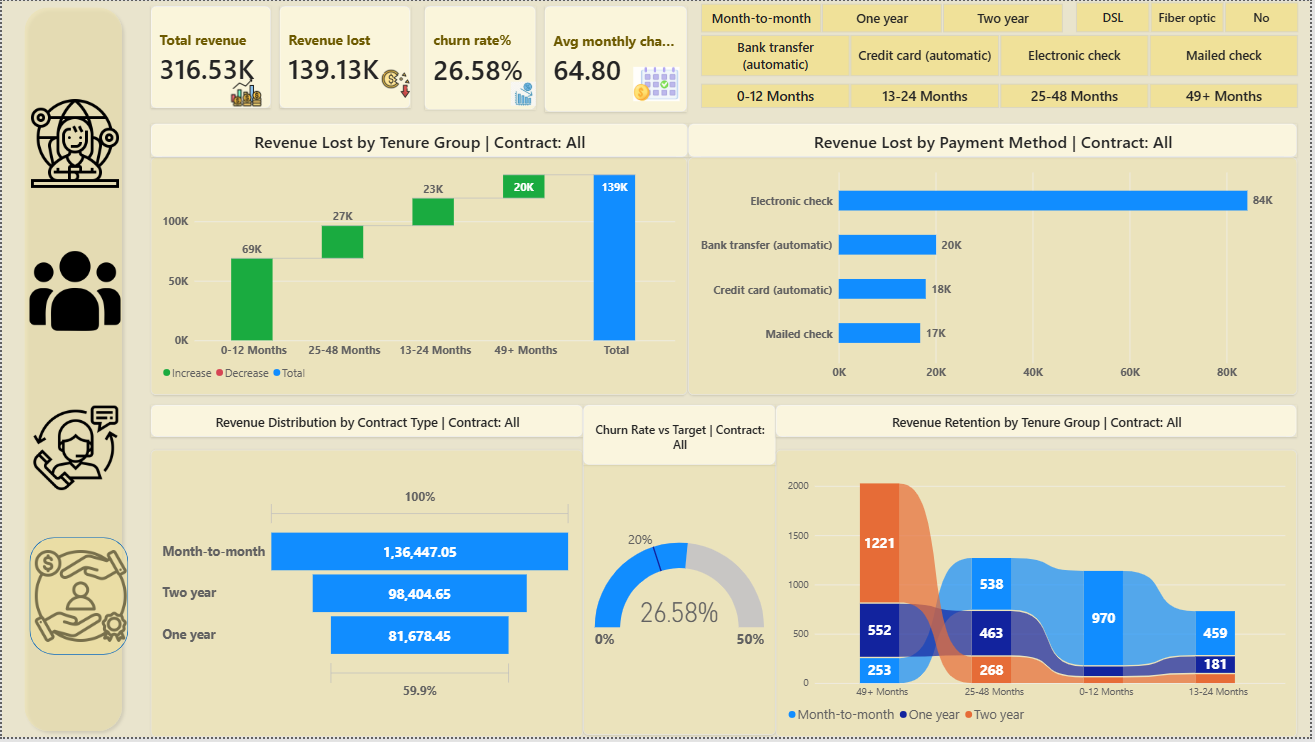

What the dashboard file says about the page in this screenshot:
{"tool":"powerbi","page":{"name":"Revenue and Retention Analysis","canvas":[1920,1080],"ordinal":4},"visuals":[{"type":"cardVisual","fields":{"Data":["telco_customer_churn_data.Total revenue"]},"box":[218.3,7.3,176.1,150.4],"z":0},{"type":"cardVisual","fields":{"Data":["telco_customer_churn_data.Avg monthly charges"]},"box":[796.1,7.3,209.1,155.9],"z":1000},{"type":"cardVisual","fields":{"Data":["telco_customer_churn_data.churn rate%"]},"box":[620,7.3,163.2,152.2],"z":2000},{"type":"cardVisual","fields":{"Data":["telco_customer_churn_data.Revenue lost"]},"box":[407.2,7.3,192.6,150.4],"z":3000},{"type":"shape","box":[23.8,0,161.4,1080.4],"z":4000},{"type":"funnel","fields":{"Category":["telco_customer_churn_data.Contract"],"Y":["telco_customer_churn_data.Total revenue"]},"box":[218.3,658.5,634.7,421.9],"z":5000},{"type":"gauge","fields":{"Y":["telco_customer_churn_data.churn rate%"],"MinValue":["telco_customer_churn_data.Gauge Min"],"MaxValue":["telco_customer_churn_data.Gauge Max"],"TargetValue":["telco_customer_churn_data.Churn Target"]},"box":[852.9,658.5,282.5,418.2],"z":6000},{"type":"waterfallChart","fields":{"Category":["telco_customer_churn_data.Tenure Group"],"Y":["telco_customer_churn_data.Revenue lost"]},"box":[218.3,229.3,786.9,348.5],"z":7000},{"type":"slicer","fields":{"Values":["telco_customer_churn_data.Contract"]},"box":[1005.2,1.8,570.5,45.9],"z":8000},{"type":"slicer","fields":{"Values":["telco_customer_churn_data.PaymentMethod"]},"box":[1005.2,47.7,915.3,64.2],"z":9000},{"type":"slicer","fields":{"Values":["telco_customer_churn_data.Tenure Group"]},"box":[1005.2,119.2,915.3,38.5],"z":10000},{"type":"image","box":[926.3,86.2,67.9,71.5],"z":11000},{"type":"image","box":[746.5,75.2,36.7,121.1],"z":12000},{"type":"image","box":[555.8,82.5,44,77],"z":13000},{"type":"cardVisual","fields":{"Data":["telco_customer_churn_data.Revenue Tenure Title"]},"box":[218.3,179.8,788.7,49.5],"z":14000},{"type":"ribbonChart","fields":{"Series":["telco_customer_churn_data.Contract"],"Category":["telco_customer_churn_data.Tenure Group"],"Y":["telco_customer_churn_data.Active customers"]},"box":[1135.4,658.5,764.9,421.9],"z":15000},{"type":"cardVisual","fields":{"Data":["telco_customer_churn_data.Payment Revenue Title"]},"box":[1007,179.8,893.3,49.5],"z":16000},{"type":"cardVisual","fields":{"Data":["telco_customer_churn_data.Contract Revenue Title"]},"box":[218.3,592.5,634.7,47.7],"z":17000},{"type":"cardVisual","fields":{"Data":["telco_customer_churn_data.Gauge Title"]},"box":[852.9,592.5,282.5,88],"z":18000},{"type":"cardVisual","fields":{"Data":["telco_customer_churn_data.Retention Title"]},"box":[1135.4,592.5,764.9,47.7],"z":19000},{"type":"image","box":[322.8,111.9,71.5,45.9],"z":20000},{"type":"clusteredBarChart","fields":{"Y":["telco_customer_churn_data.Revenue lost"],"Category":["telco_customer_churn_data.PaymentMethod"]},"box":[1007,229.3,893.3,348.5],"z":21000},{"type":"slicer","fields":{"Values":["telco_customer_churn_data.InternetService"]},"box":[1555.4,0,365,47.7],"z":22000},{"type":"image","box":[45.9,803.4,139.4,139.4],"z":22001},{"type":"image","box":[45.9,564.9,124.7,181.6],"z":22002},{"type":"image","box":[40.4,355.8,133.9,139.4],"z":22003},{"type":"image","box":[40.4,139.4,133.9,139.4],"z":22004},{"type":"shape","box":[40.4,786.9,144.9,172.4],"z":22005}]}

Visuals, with their boxes in screenshot pixels (x1, y1, x2, y2), scaled from the page's 1920x1080 canvas onto the 1315x742 screenshot:
cardVisual - telco_customer_churn_data.Total revenue: crop(150, 5, 270, 108)
cardVisual - telco_customer_churn_data.Avg monthly charges: crop(545, 5, 688, 112)
cardVisual - telco_customer_churn_data.churn rate%: crop(425, 5, 536, 110)
cardVisual - telco_customer_churn_data.Revenue lost: crop(279, 5, 411, 108)
shape: crop(16, 0, 127, 741)
funnel - telco_customer_churn_data.Contract x telco_customer_churn_data.Total revenue: crop(150, 452, 584, 741)
gauge - telco_customer_churn_data.churn rate% x telco_customer_churn_data.Gauge Min: crop(584, 452, 778, 740)
waterfallChart - telco_customer_churn_data.Tenure Group x telco_customer_churn_data.Revenue lost: crop(150, 158, 688, 397)
slicer - telco_customer_churn_data.Contract: crop(688, 1, 1079, 33)
slicer - telco_customer_churn_data.PaymentMethod: crop(688, 33, 1314, 77)
slicer - telco_customer_churn_data.Tenure Group: crop(688, 82, 1314, 108)
image: crop(634, 59, 681, 108)
image: crop(511, 52, 536, 135)
image: crop(381, 57, 411, 110)
cardVisual - telco_customer_churn_data.Revenue Tenure Title: crop(150, 124, 690, 158)
ribbonChart - telco_customer_churn_data.Contract x telco_customer_churn_data.Tenure Group: crop(778, 452, 1302, 741)
cardVisual - telco_customer_churn_data.Payment Revenue Title: crop(690, 124, 1302, 158)
cardVisual - telco_customer_churn_data.Contract Revenue Title: crop(150, 407, 584, 440)
cardVisual - telco_customer_churn_data.Gauge Title: crop(584, 407, 778, 468)
cardVisual - telco_customer_churn_data.Retention Title: crop(778, 407, 1302, 440)
image: crop(221, 77, 270, 108)
clusteredBarChart - telco_customer_churn_data.Revenue lost x telco_customer_churn_data.PaymentMethod: crop(690, 158, 1302, 397)
slicer - telco_customer_churn_data.InternetService: crop(1065, 0, 1314, 33)
image: crop(31, 552, 127, 648)
image: crop(31, 388, 117, 513)
image: crop(28, 244, 119, 340)
image: crop(28, 96, 119, 192)
shape: crop(28, 541, 127, 659)
